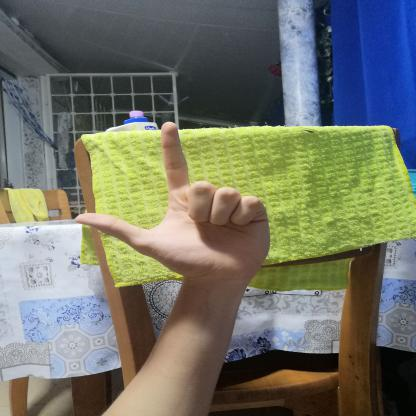LAAM: (61, 112, 286, 292)
